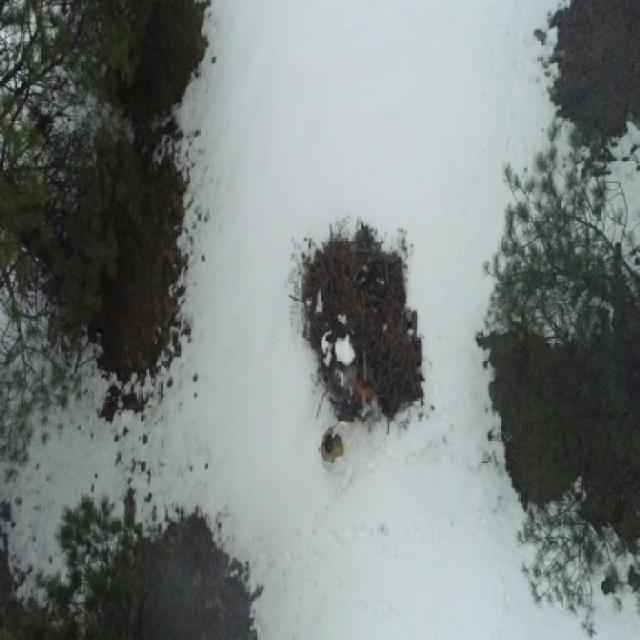Fire: (359, 377, 379, 407)
